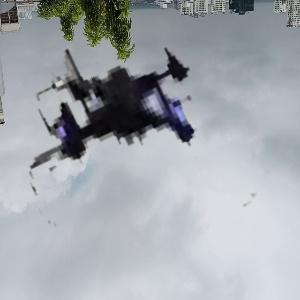drone: (10, 12, 268, 270)
